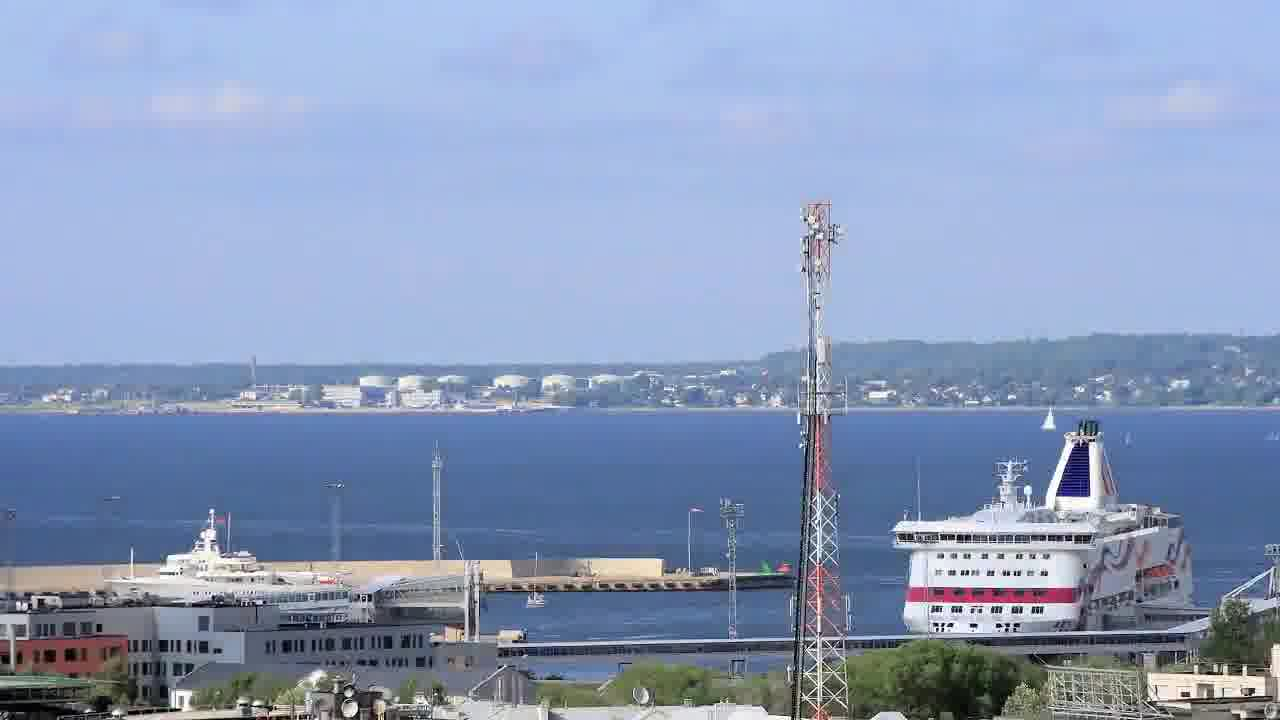type-2: (522, 567, 556, 617), (1030, 394, 1066, 437)
type-3: (868, 415, 1225, 638), (84, 511, 353, 609)
